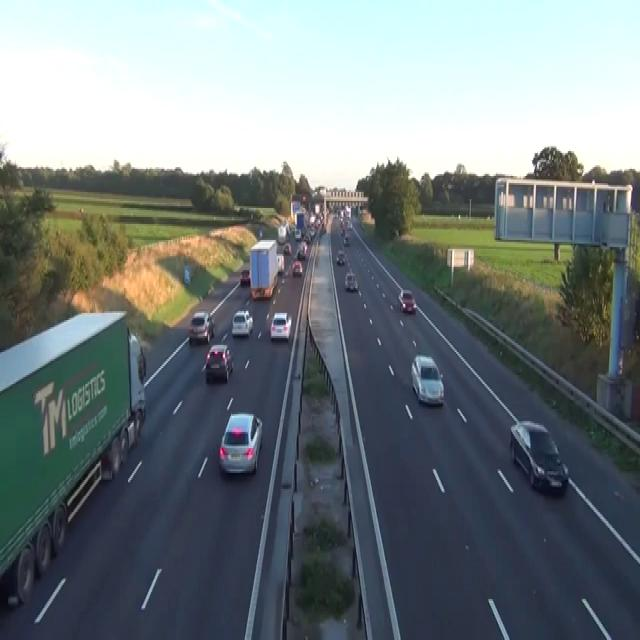Car: (509, 420, 569, 492), (218, 410, 262, 474), (410, 354, 444, 405), (204, 343, 234, 382), (187, 311, 214, 345), (270, 311, 292, 340), (231, 309, 253, 336), (397, 288, 416, 313), (344, 270, 357, 290), (239, 268, 250, 286), (297, 242, 307, 260), (291, 260, 302, 276), (336, 249, 345, 265), (277, 254, 284, 274), (282, 242, 291, 254), (304, 231, 311, 244), (285, 222, 291, 235), (294, 228, 300, 240), (343, 235, 350, 245), (320, 224, 326, 235), (309, 213, 315, 224), (340, 224, 345, 236), (347, 220, 352, 230)
Truck: (0, 308, 146, 608), (249, 238, 278, 299)
